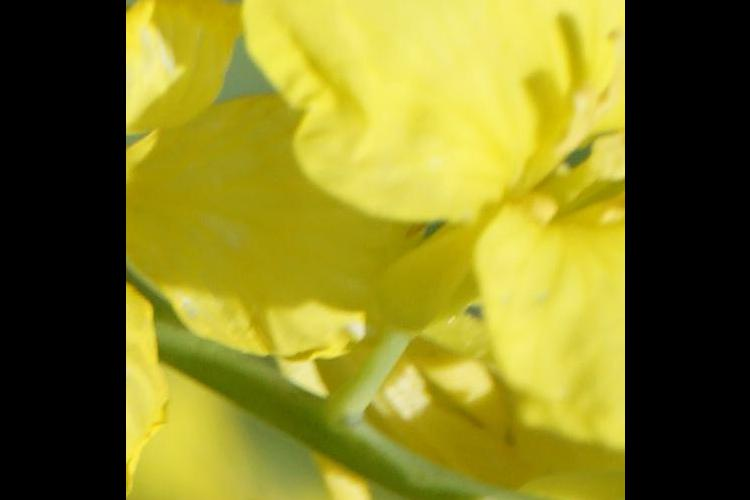yellow: (270, 1, 614, 475), (132, 1, 397, 482)
